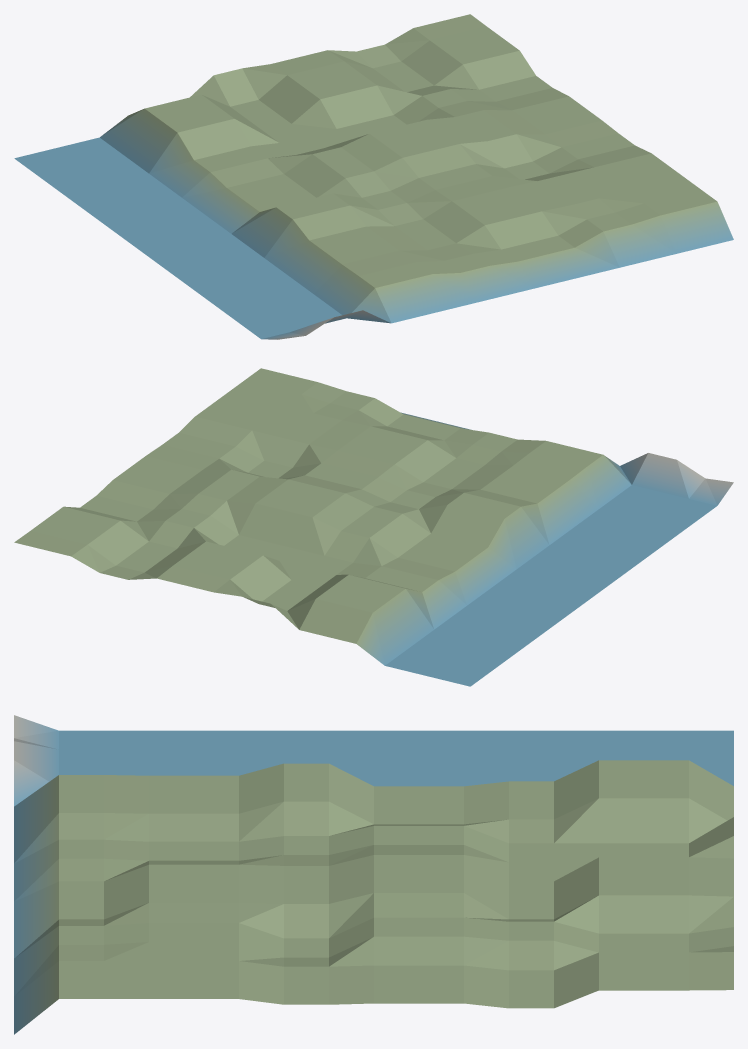
3 views of the same model, one above another, from view 1: azimuth 30°, elevation 25°; view 2: azimuth 150°, elevation 25°; view 3: azimuth 270°, elevation 25° (orthographic). The views are drawn at different scales.
Size of the model in its own units: 32 by 2.3 by 32.
